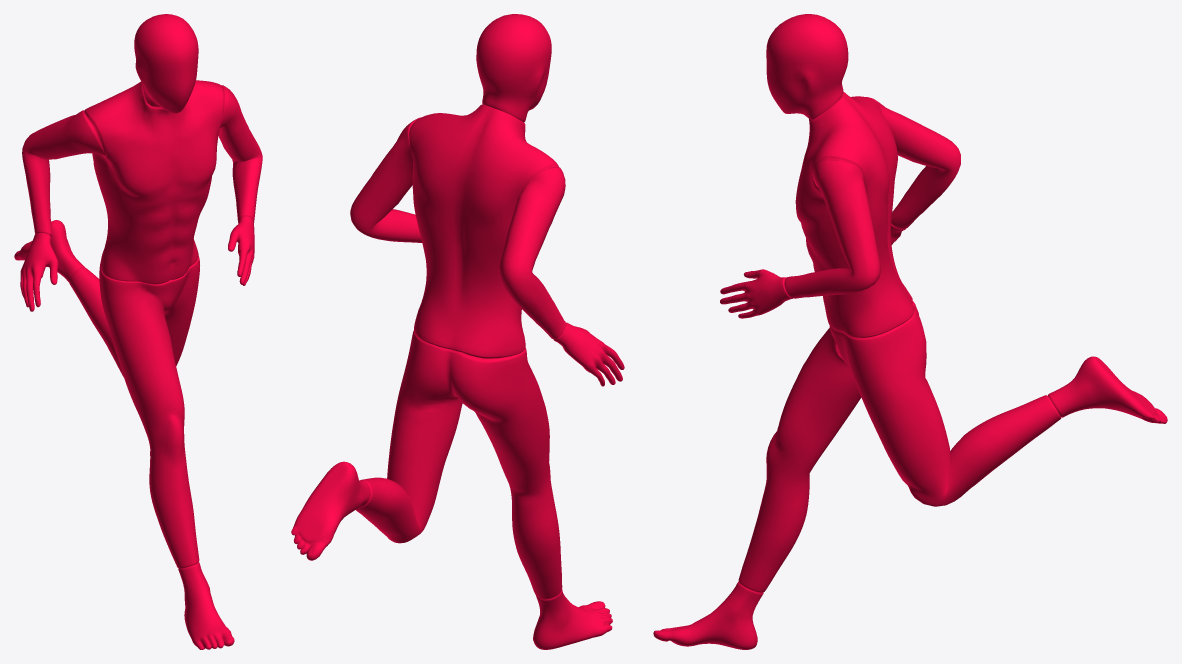
The model's file is static_man.gltf.
3 renders of one model, left to right at view 1: azimuth 30°, elevation 25°; view 2: azimuth 150°, elevation 25°; view 3: azimuth 270°, elevation 25°, orthographic. The views are drawn at different scales.
Visible parts, largest first — view 1: RunningStatic; view 2: RunningStatic; view 3: RunningStatic.
Boxes of the visible parts, left/top/right/bottom form: RunningStatic: left=14, top=14, right=262, bottom=649; RunningStatic: left=291, top=14, right=624, bottom=649; RunningStatic: left=653, top=14, right=1167, bottom=649.
Bounding box in the file's own units: 0.7086 × 1.68 × 1.24.
